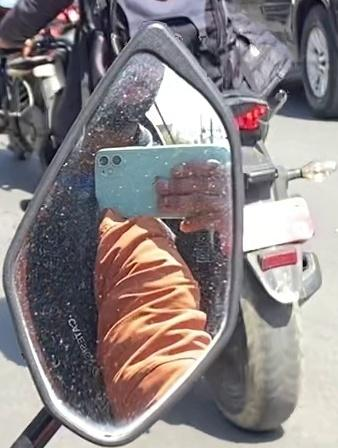license-plate: (237, 198, 321, 249)
